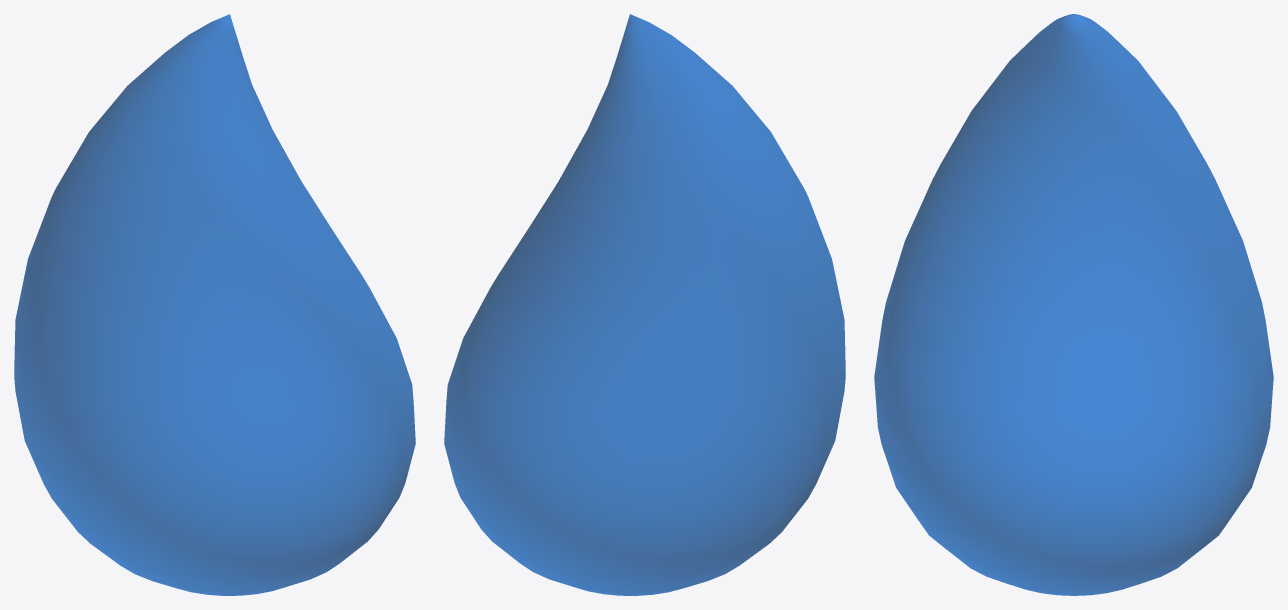
File: Big Flame.dae
3 renders of one model, left to right at view 1: azimuth 30°, elevation 25°; view 2: azimuth 150°, elevation 25°; view 3: azimuth 270°, elevation 25°, orthographic.
Visible parts, largest first — view 1: Big Flame; view 2: Big Flame; view 3: Big Flame.
Part boxes in pixels (x1,y1,x2,y2): Big Flame: (14, 14, 415, 595); Big Flame: (444, 14, 845, 595); Big Flame: (874, 14, 1273, 595).
Size of the model in its own units: 1.79 by 1.78 by 2.75.
